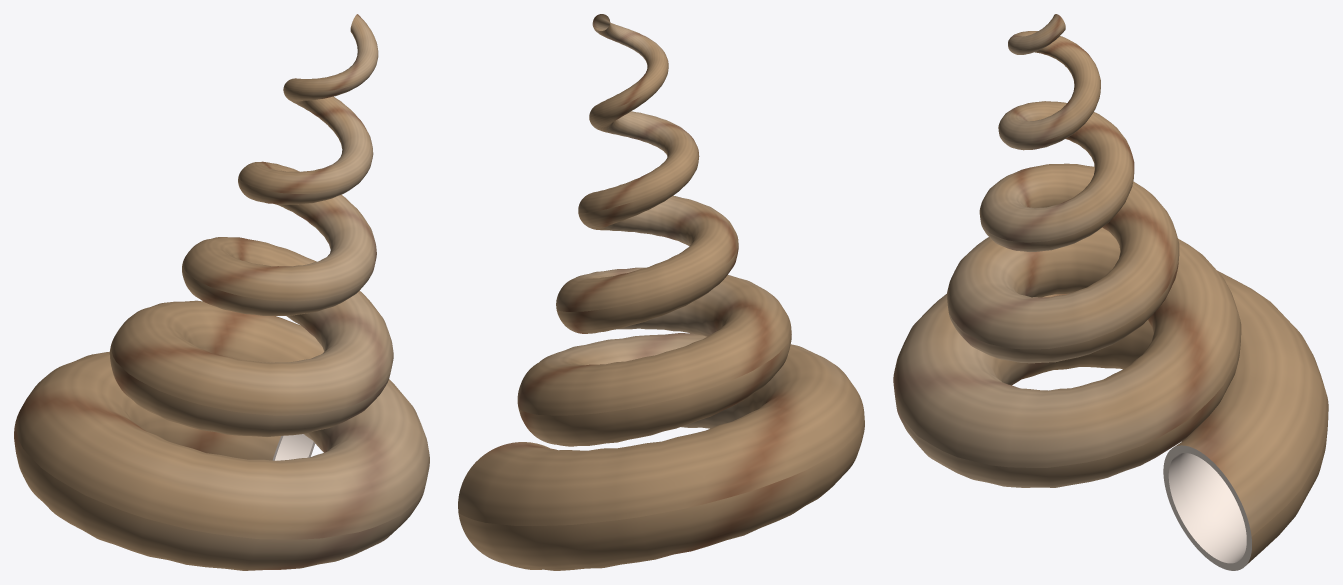
File: tower-shell.glb
3 views of the same model, side by side, from view 1: azimuth 30°, elevation 25°; view 2: azimuth 150°, elevation 25°; view 3: azimuth 270°, elevation 25° (orthographic). The views are drawn at different scales.
Parts seen in each view (by area): view 1: tower-shell; view 2: tower-shell; view 3: tower-shell.
Boxes of the visible parts, x1,y1,x2,y2 form: tower-shell: (14, 14, 429, 570); tower-shell: (458, 14, 864, 570); tower-shell: (893, 14, 1328, 570).
Bounding box in the file's own units: 1.38 × 2.1 × 1.51.
